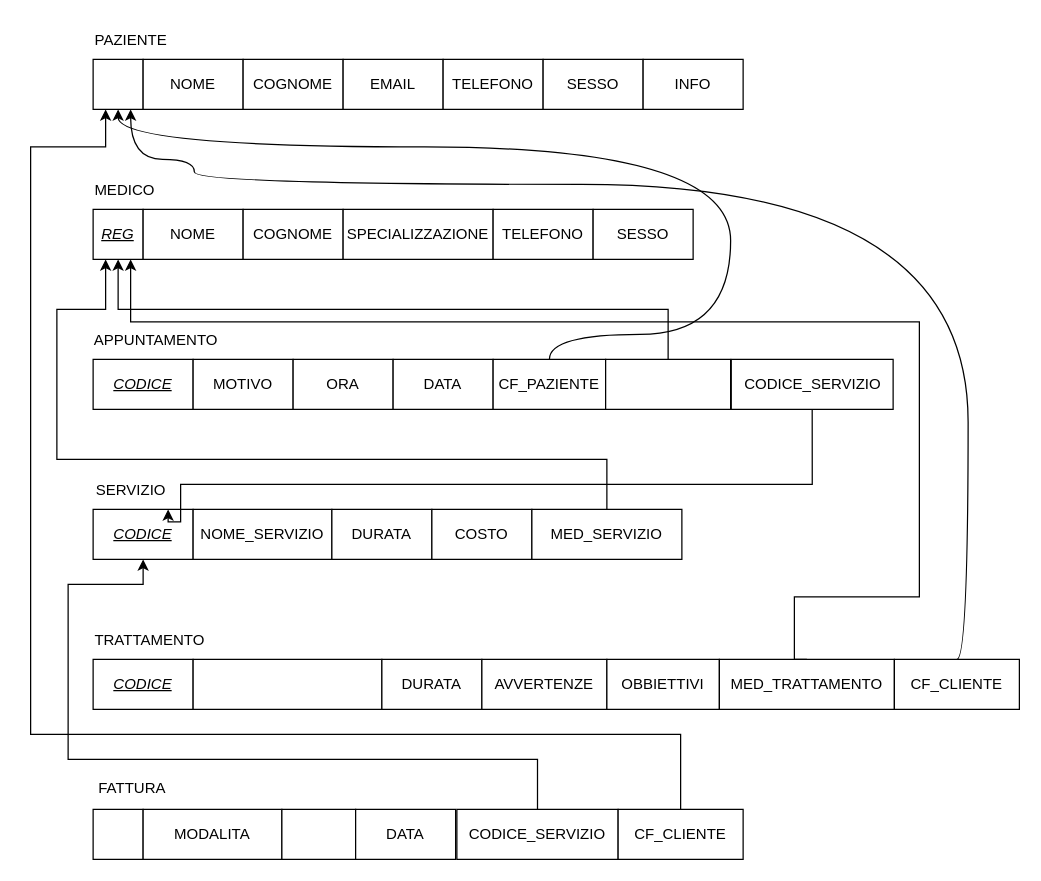
The diagram is 1041 pixels wide and 881 high, and some of its shapes have lost their labels. The box of each missing label's shape, as (x1, y1, x2, y2) in pixels:
CF: (92, 58, 143, 109)
ID: (92, 808, 143, 859)
NOME_TRATTAMENTO: (192, 658, 382, 709)
REG_MEDICO: (604, 358, 731, 409)
STATO: (281, 808, 356, 859)
